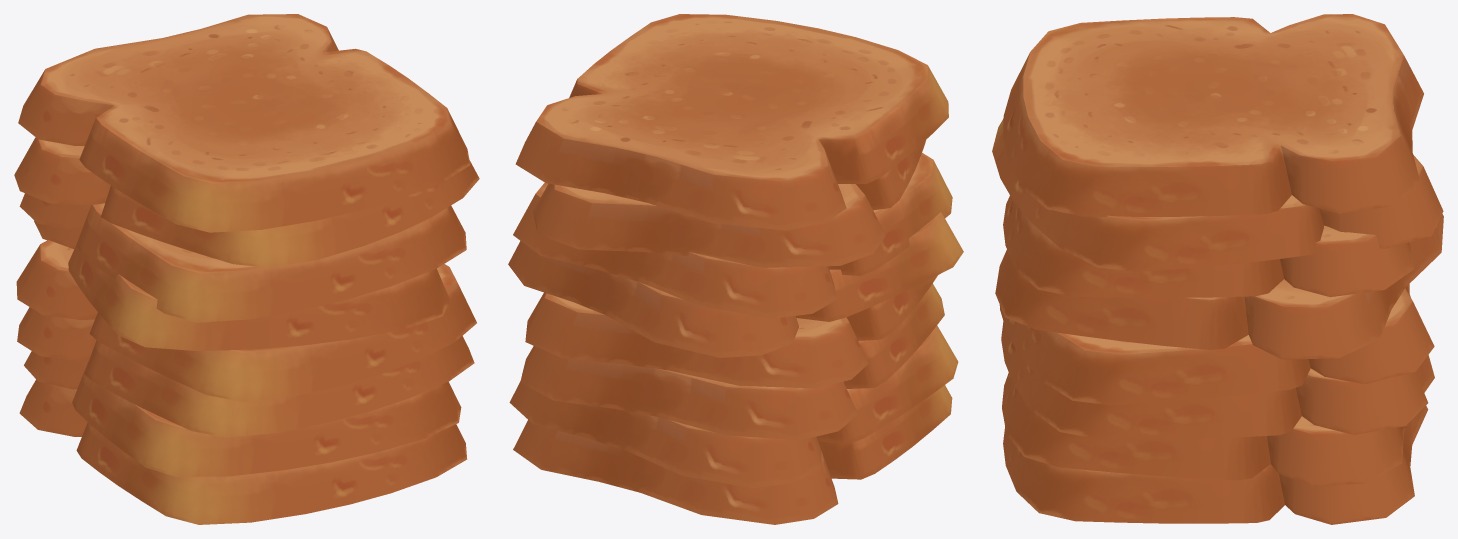
Rendered from BreadSliceStack.glb.
3 renders of one model, left to right at view 1: azimuth 30°, elevation 25°; view 2: azimuth 150°, elevation 25°; view 3: azimuth 270°, elevation 25°, orthographic. The views are drawn at different scales.
Visible parts, largest first — view 1: Object_9; view 2: Object_9; view 3: Object_9.
Part boxes in pixels (x1=…): Object_9: x1=14, y1=14, x2=479, y2=524; Object_9: x1=508, y1=14, x2=963, y2=524; Object_9: x1=992, y1=14, x2=1443, y2=524.
Size of the model in its own units: 0.2966 by 0.2602 by 0.3002.
Materials: 1 (1 with a texture image).
